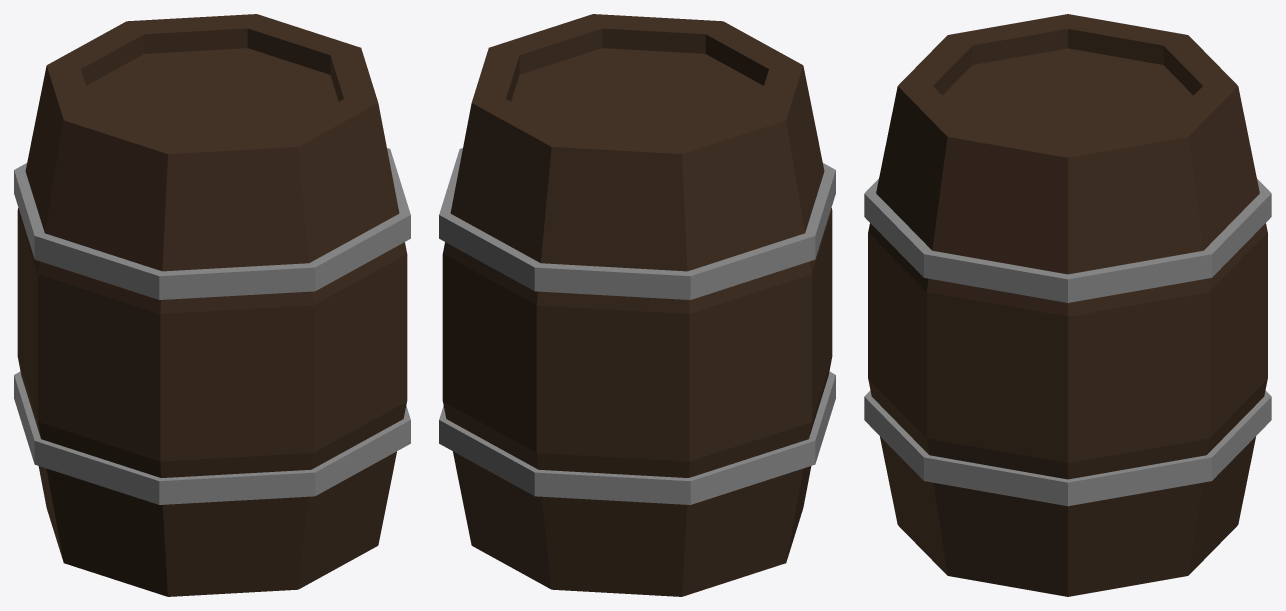
The model's file is barrel_mat.fbx.
3 views of the same model, side by side, from view 1: azimuth 30°, elevation 25°; view 2: azimuth 150°, elevation 25°; view 3: azimuth 270°, elevation 25° (orthographic).
Parts seen in each view (by area): view 1: barrel_mat; view 2: barrel_mat; view 3: barrel_mat.
Part boxes in pixels (bbox=[...]): barrel_mat: bbox=[14, 14, 410, 596]; barrel_mat: bbox=[439, 14, 835, 596]; barrel_mat: bbox=[864, 14, 1271, 596].
Size of the model in its own units: 45.53 by 54.15 by 45.53.
